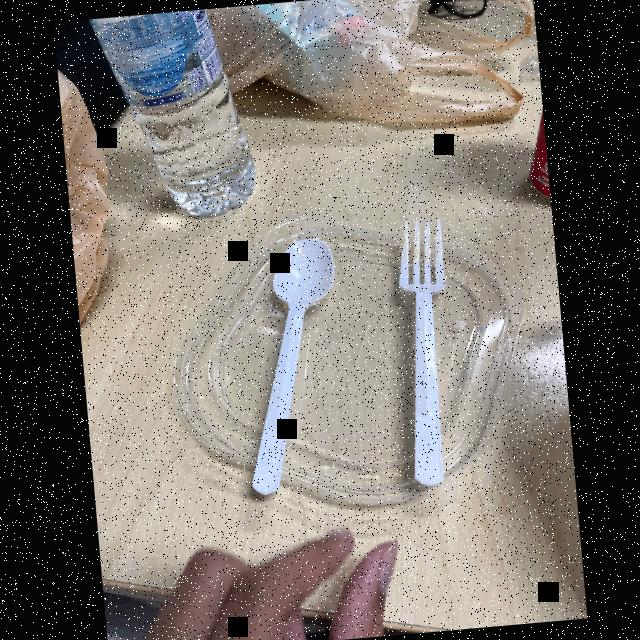plastic_spoon: (204, 230, 364, 517), (364, 205, 482, 499)
